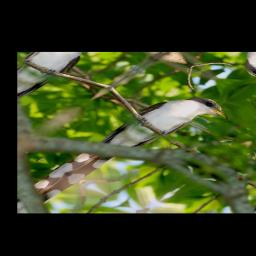Cuckoo: (53, 83, 239, 197)
